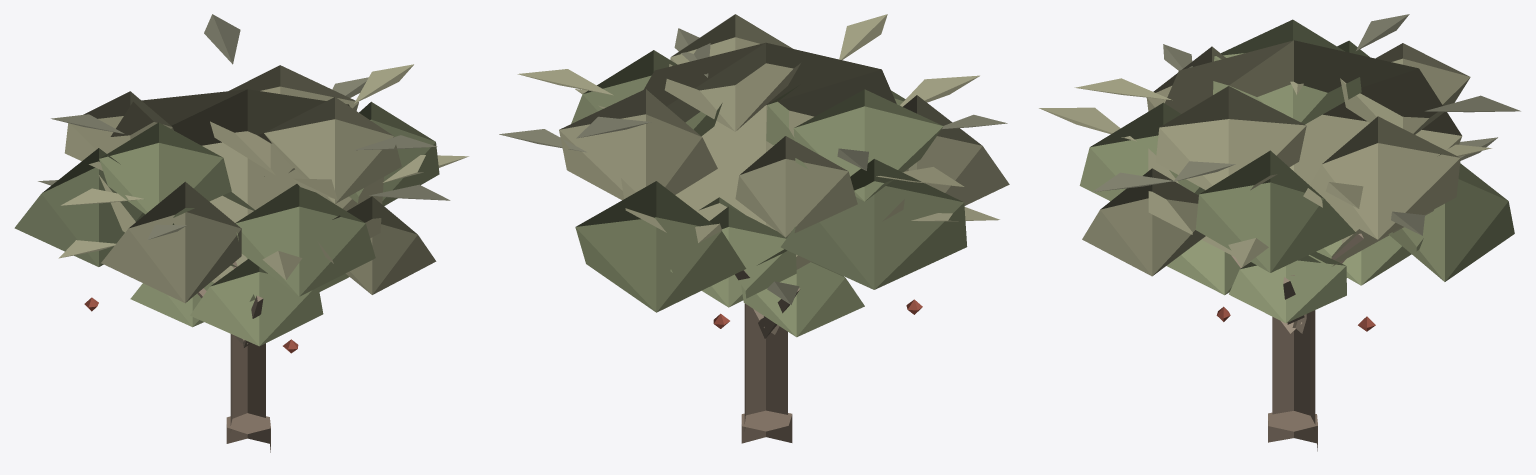
File: shu.fenghuang@fruiting__winter.glb
The picture shows the model from 3 angles, left to right: view 1: azimuth 30°, elevation 25°; view 2: azimuth 150°, elevation 25°; view 3: azimuth 270°, elevation 25°; orthographic projection. The views are drawn at different scales.
Visible parts, largest first — view 1: shu.fenghuang@fruiting__winter; view 2: shu.fenghuang@fruiting__winter; view 3: shu.fenghuang@fruiting__winter.
Boxes of the visible parts, left/top/right/bottom form: shu.fenghuang@fruiting__winter: left=14, top=14, right=468, bottom=452; shu.fenghuang@fruiting__winter: left=499, top=14, right=1009, bottom=443; shu.fenghuang@fruiting__winter: left=1039, top=14, right=1520, bottom=451.
Bounding box in the file's own units: 14.24 × 12.07 × 13.43.
